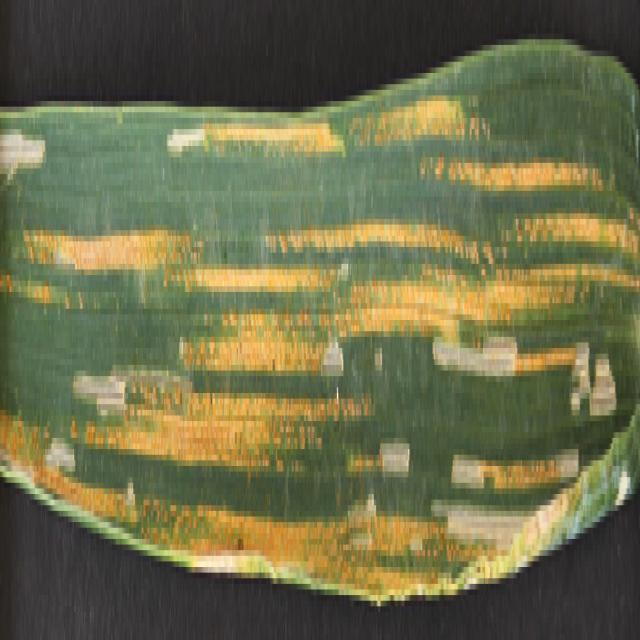leaf rust: (1, 22, 638, 578)
